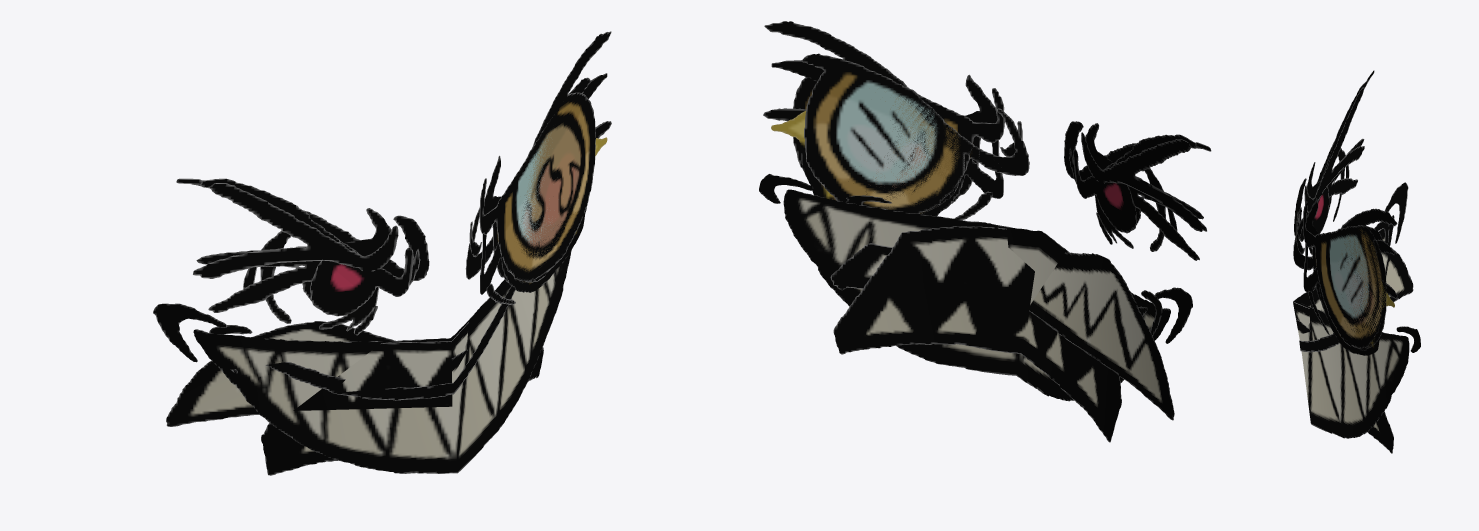
The model's file is GamblerFacesxport.fbx.
3 views of the same model, side by side, from view 1: azimuth 30°, elevation 25°; view 2: azimuth 150°, elevation 25°; view 3: azimuth 270°, elevation 25° (orthographic). The views are drawn at different scales.
Parts seen in each view (by area): view 1: Mouth.005, EyeL.007, Mouth.007, EyeR.004, Mouth.006, EyeR.005, EyeL.004, EyeR.007, Mouth.004, EyeR.006, EyeL.005, EyeL.006; view 2: Mouth.007, EyeL.004, Mouth.005, Mouth.006, EyeL.007, EyeR.004, EyeL.005, EyeR.005, EyeR.007, EyeR.006, EyeL.006, Mouth.004; view 3: Mouth.005, EyeL.004, EyeL.007, EyeL.005, Mouth.006, EyeR.004, EyeR.005, Mouth.007, EyeR.006, EyeR.007, EyeL.006, Mouth.004.
Boxes of the visible parts, bbox=[...] form: Mouth.005: bbox=[153, 250, 571, 473]; EyeL.007: bbox=[465, 31, 611, 304]; Mouth.007: bbox=[261, 322, 543, 475]; EyeR.004: bbox=[193, 183, 398, 278]; Mouth.006: bbox=[166, 321, 467, 426]; EyeR.005: bbox=[199, 178, 413, 335]; EyeL.004: bbox=[479, 77, 590, 282]; EyeR.007: bbox=[176, 178, 429, 331]; Mouth.004: bbox=[209, 286, 515, 400]; EyeR.006: bbox=[196, 208, 420, 312]; EyeL.005: bbox=[480, 73, 607, 294]; EyeL.006: bbox=[469, 121, 611, 282]; Mouth.007: bbox=[833, 226, 1121, 442]; EyeL.004: bbox=[802, 53, 1004, 213]; Mouth.005: bbox=[759, 174, 1192, 401]; Mouth.006: bbox=[830, 243, 1174, 420]; EyeL.007: bbox=[764, 21, 1029, 220]; EyeR.004: bbox=[1081, 132, 1206, 231]; EyeL.005: bbox=[771, 60, 1003, 216]; EyeR.005: bbox=[1073, 134, 1197, 244]; EyeR.007: bbox=[1064, 121, 1211, 251]; EyeR.006: bbox=[1069, 123, 1203, 260]; EyeL.006: bbox=[763, 74, 1022, 203]; Mouth.004: bbox=[846, 195, 1162, 335]; Mouth.005: bbox=[1295, 182, 1420, 438]; EyeL.004: bbox=[1303, 201, 1382, 348]; EyeL.007: bbox=[1293, 208, 1397, 350]; EyeL.005: bbox=[1303, 240, 1394, 355]; Mouth.006: bbox=[1296, 247, 1413, 339]; EyeR.004: bbox=[1304, 87, 1364, 212]; EyeR.005: bbox=[1299, 81, 1367, 255]; Mouth.007: bbox=[1293, 298, 1393, 453]; EyeR.006: bbox=[1297, 138, 1364, 228]; EyeR.007: bbox=[1294, 70, 1374, 247]; EyeL.006: bbox=[1296, 198, 1397, 310]; Mouth.004: bbox=[1299, 222, 1389, 352].
Bounding box in the file's own units: 39.62 × 26.32 × 12.1.
